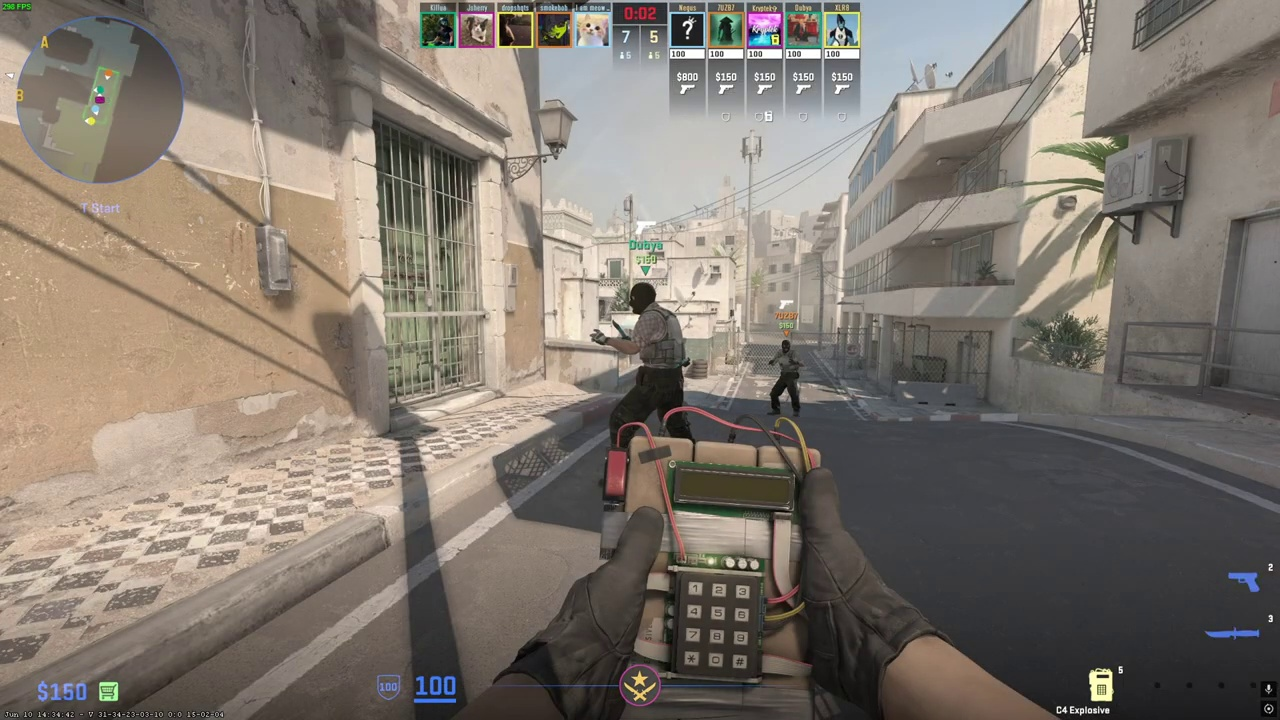Terrorist: (598, 282, 693, 450), (769, 339, 803, 416)
